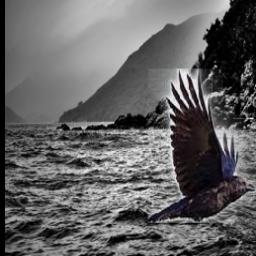Crow: (147, 69, 255, 223)
